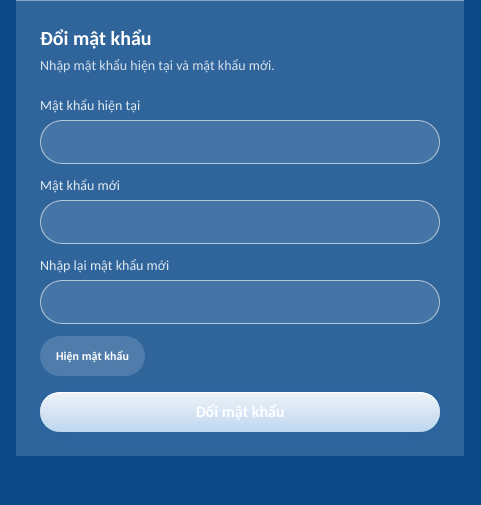
Scenario: ChangePasswordPage — validate (P3-T7) › mật khẩu mới < 6 ký tự → báo lỗi, không gọi API
In the password field labelled "Mật khẩu hiện tại": x=240, y=142 [40, 120, 440, 164], type "mat-khau-cu"
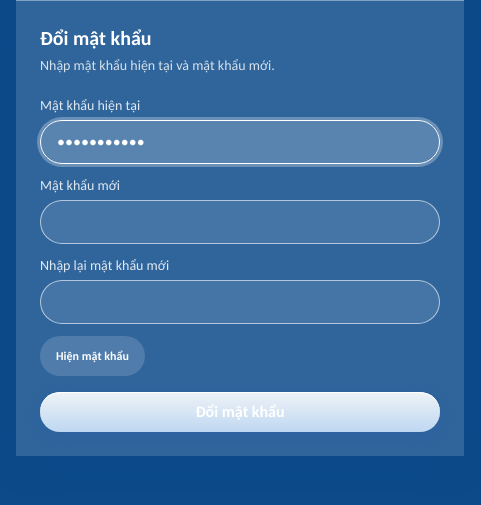
In the password field labelled "Mật khẩu mới": x=240, y=222 [40, 200, 440, 244], type "abc"
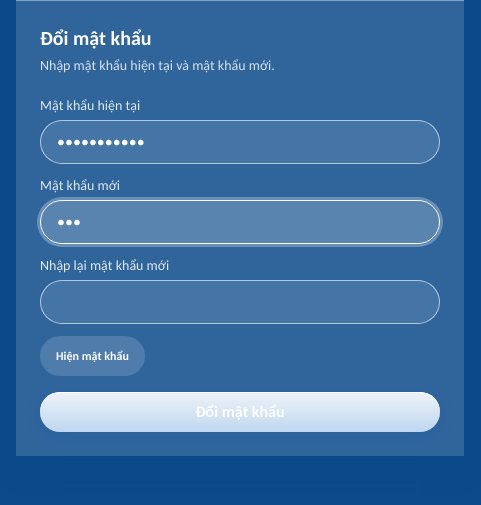
In the password field labelled "Nhập lại mật khẩu mới": x=240, y=302 [40, 280, 440, 324], type "abc"
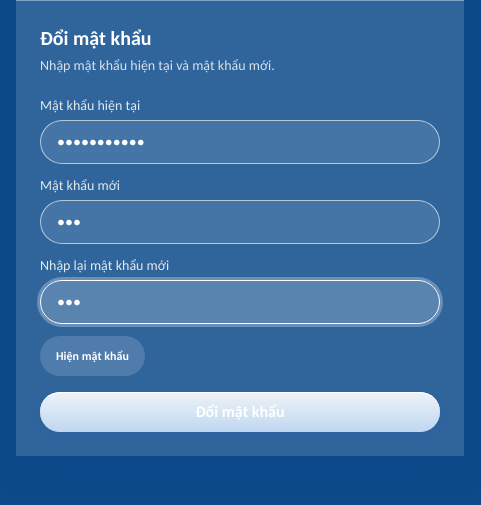
Click the button "Đổi mật khẩu": x=240, y=412 [40, 392, 440, 432]
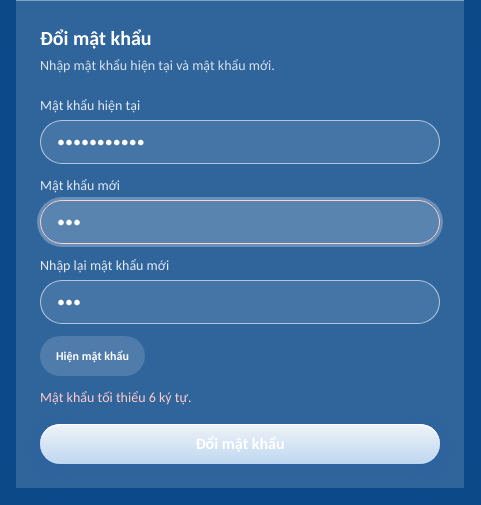
Expected: the message reads "Mật khẩu tối thiểu 6 ký tự.", [40, 389, 192, 406]
